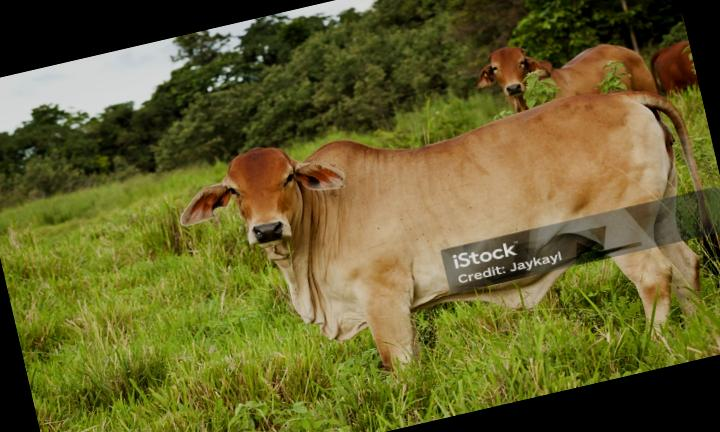Brahman: (181, 91, 701, 368)
